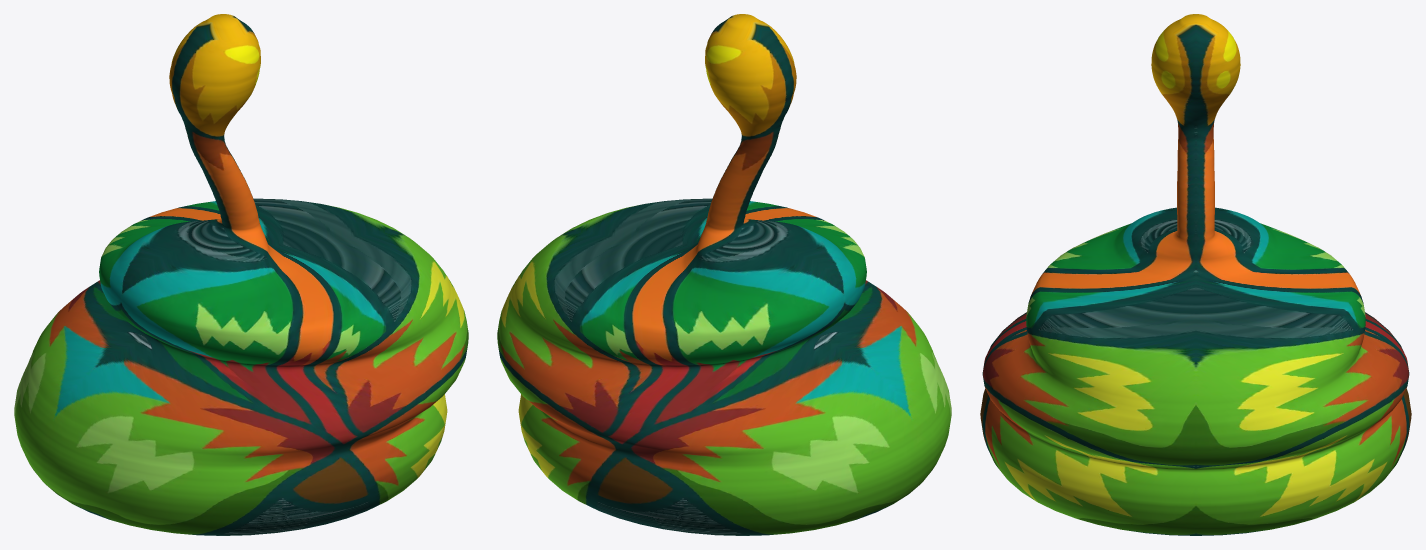
Rendered from clover_stalk.glb.
3 views of the same model, side by side, from view 1: azimuth 30°, elevation 25°; view 2: azimuth 150°, elevation 25°; view 3: azimuth 270°, elevation 25° (orthographic).
Visible parts, largest first — view 1: clover_stalk; view 2: clover_stalk; view 3: clover_stalk.
Boxes of the visible parts, <box> form: clover_stalk: <box>14,14,468,535</box>; clover_stalk: <box>497,14,951,535</box>; clover_stalk: <box>980,14,1411,535</box>.
Size of the model in its own units: 1 by 1.13 by 0.9433.
Materials: 1 (1 with a texture image).
